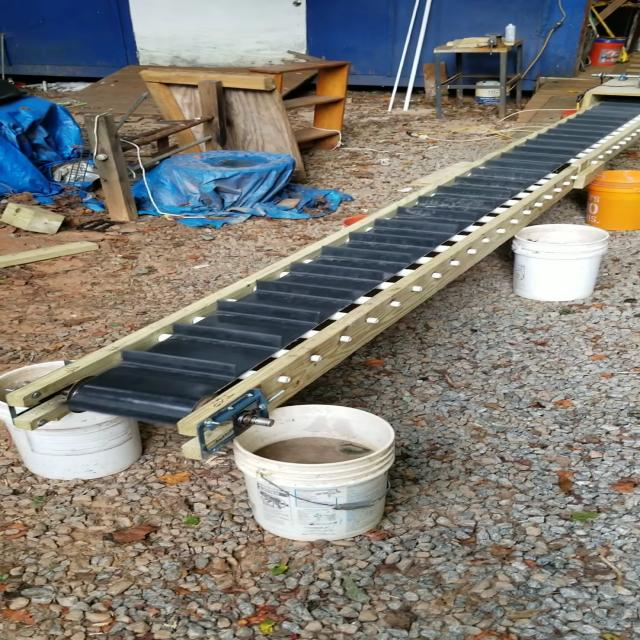Convoyeur: (12, 64, 640, 464)
